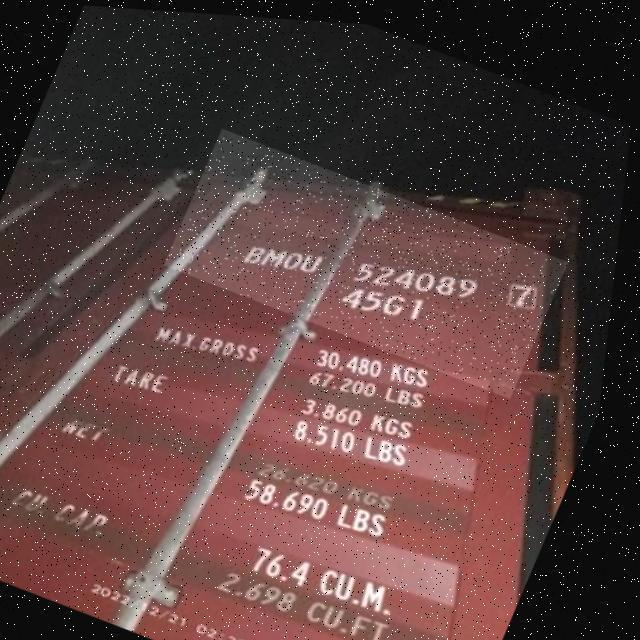container_number_h: (160, 123, 583, 393)
